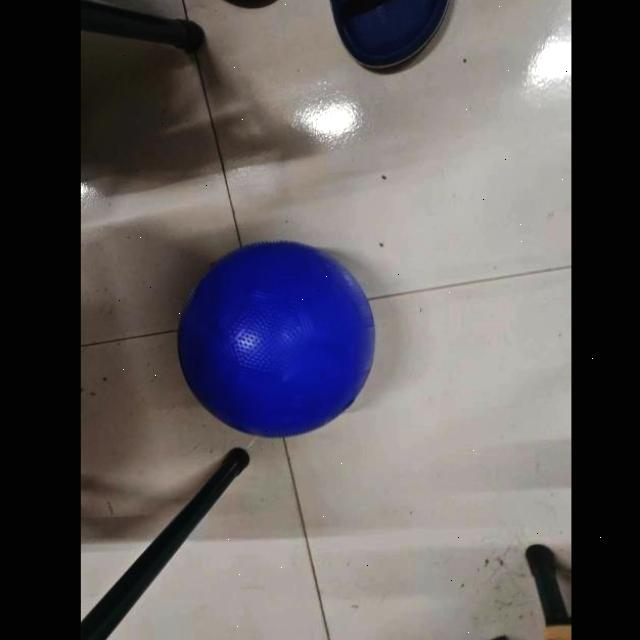B: (164, 232, 384, 444)
